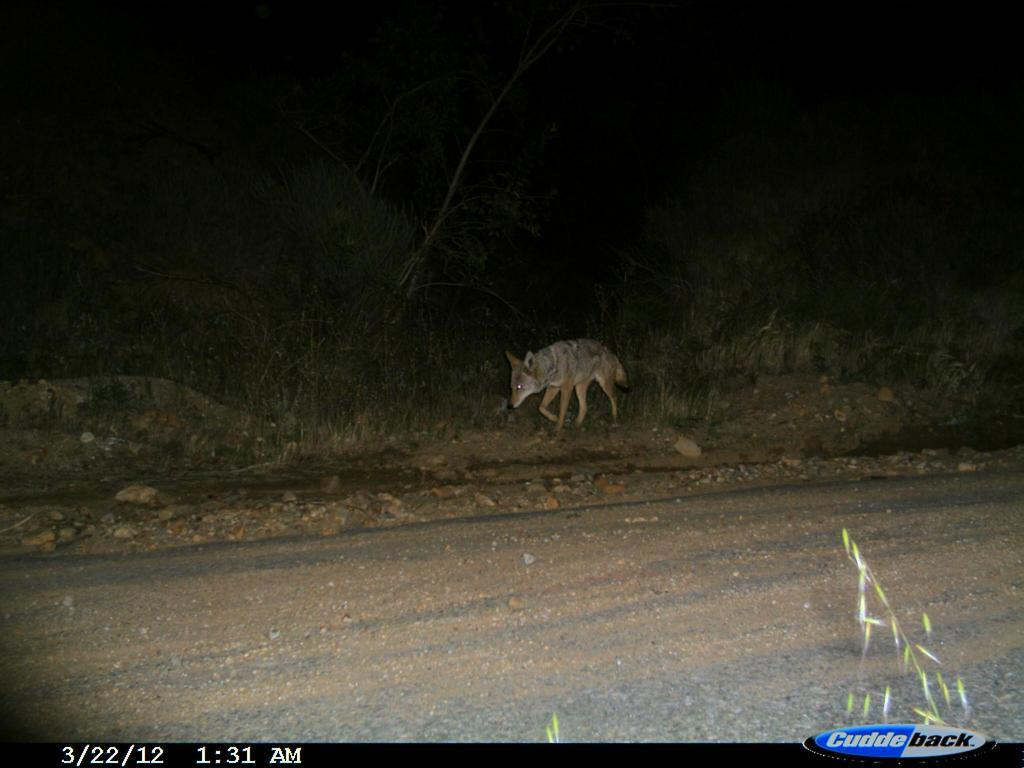coyote: (501, 339, 633, 431)
